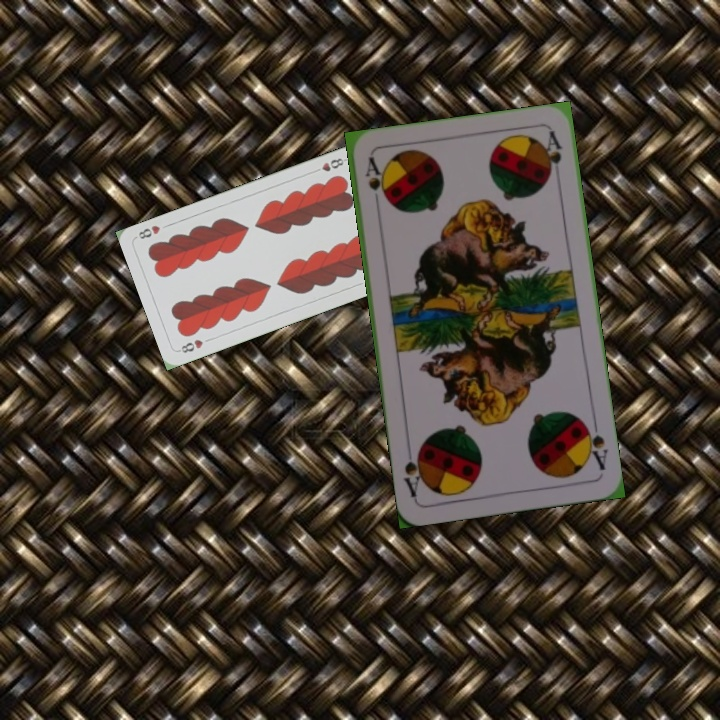H8: (309, 154, 349, 175), (175, 335, 206, 356)
SA: (579, 415, 611, 473), (361, 153, 388, 201)
